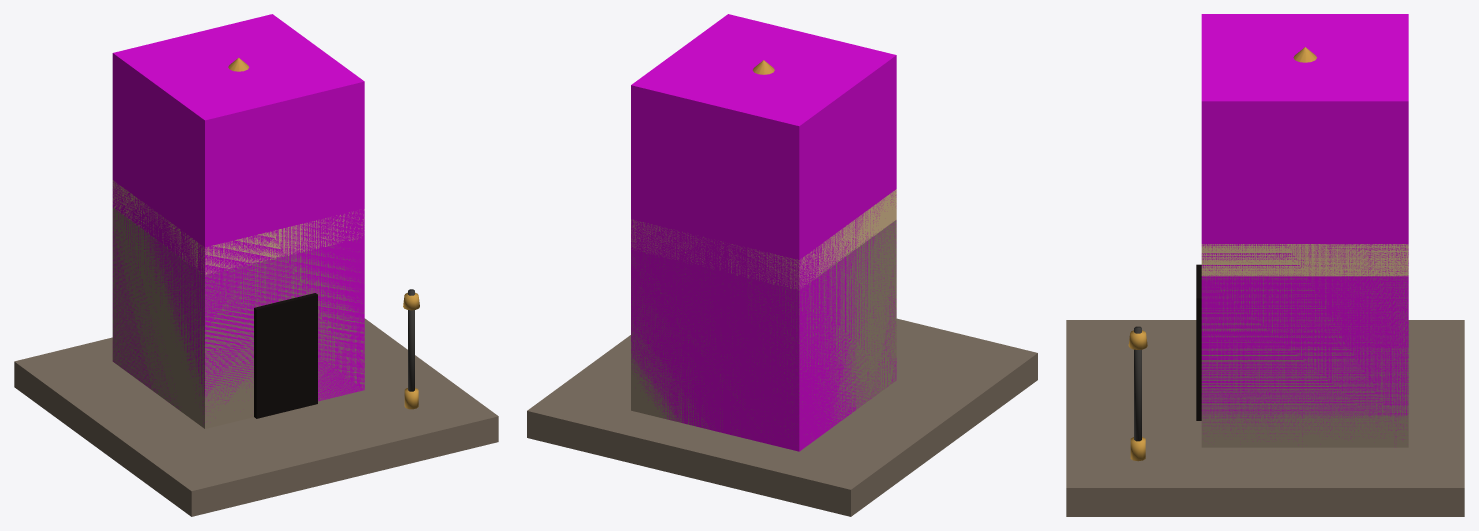
Rendered from ENV_Shrine_Small_A.glb.
The picture shows the model from 3 angles, left to right: view 1: azimuth 30°, elevation 25°; view 2: azimuth 150°, elevation 25°; view 3: azimuth 270°, elevation 25°; orthographic projection. The views are drawn at different scales.
Parts seen in each view (by area): view 1: ENV_Shrine_Small_A_Mesh, COL_Cell; view 2: COL_Cell, ENV_Shrine_Small_A_Mesh; view 3: ENV_Shrine_Small_A_Mesh, COL_Cell.
Boxes of the visible parts, x1,y1,x2,y2 form: ENV_Shrine_Small_A_Mesh: (14, 57, 498, 516); COL_Cell: (112, 14, 364, 423); COL_Cell: (631, 14, 896, 451); ENV_Shrine_Small_A_Mesh: (527, 60, 1037, 516); ENV_Shrine_Small_A_Mesh: (1066, 47, 1464, 516); COL_Cell: (1201, 14, 1408, 441).
Size of the model in its own units: 5 by 5.35 by 5.
